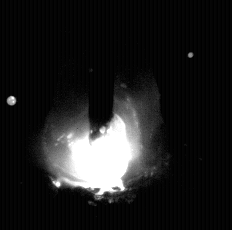arame: (88, 0, 115, 141)
poca: (42, 0, 154, 230)
